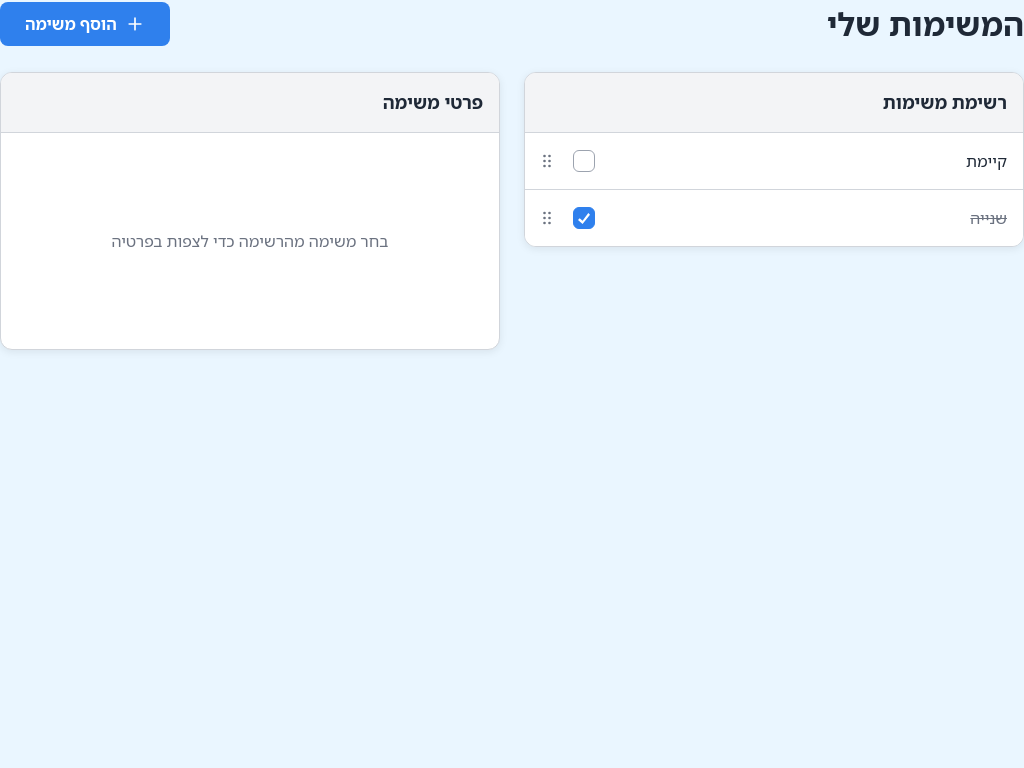
Test case: HomePage – delete task › confirm deletes the task and resets the details area
This screenshot has width=1024, height=768.
Click the button "שנייה". click: click(989, 218)
box: left=603, top=190, right=1023, bottom=246
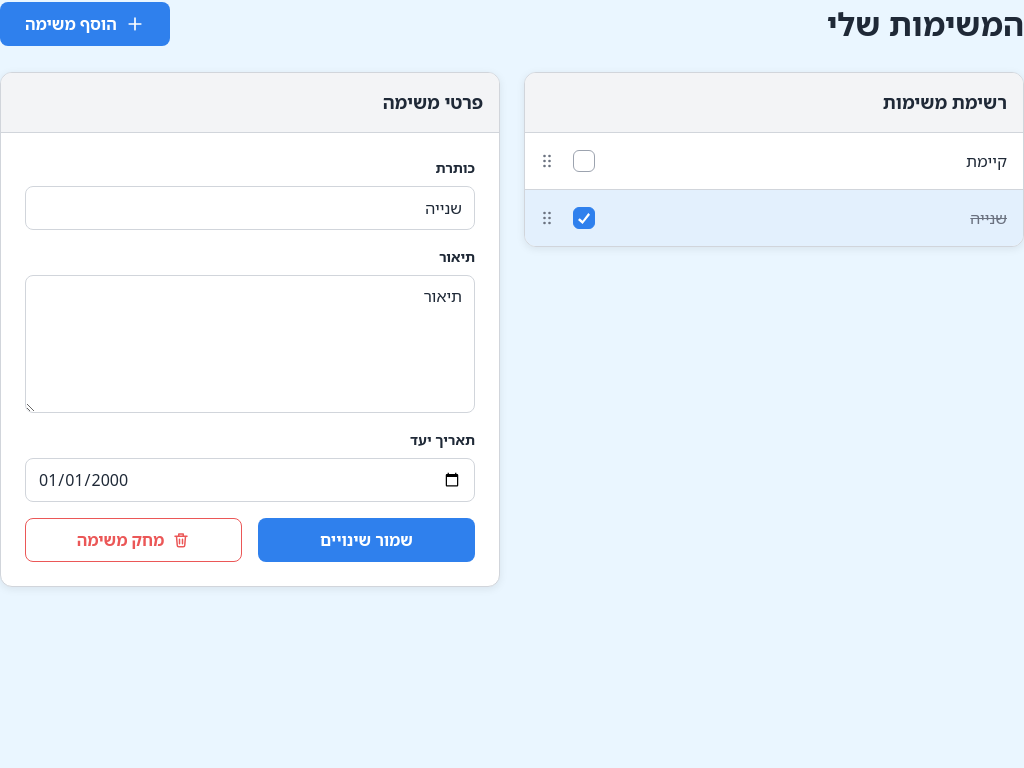
Click the button "מחק משימה". click: click(134, 540)
box: left=25, top=518, right=242, bottom=562
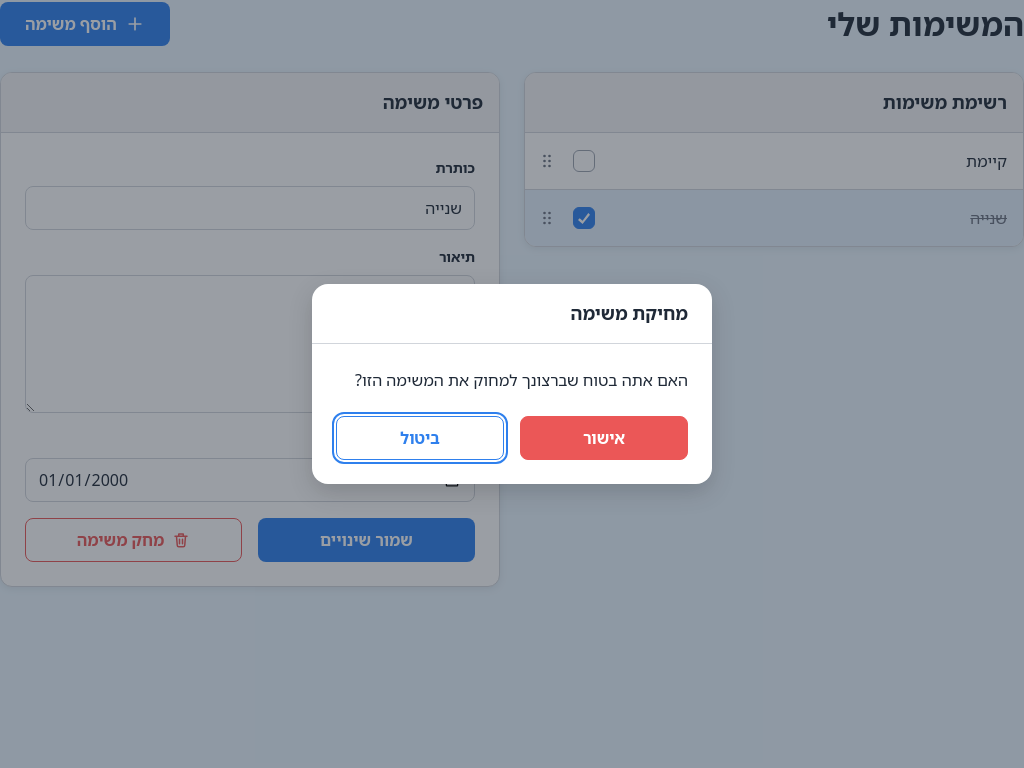
Click the button "אישור". click: click(604, 438)
box: left=520, top=416, right=688, bottom=460
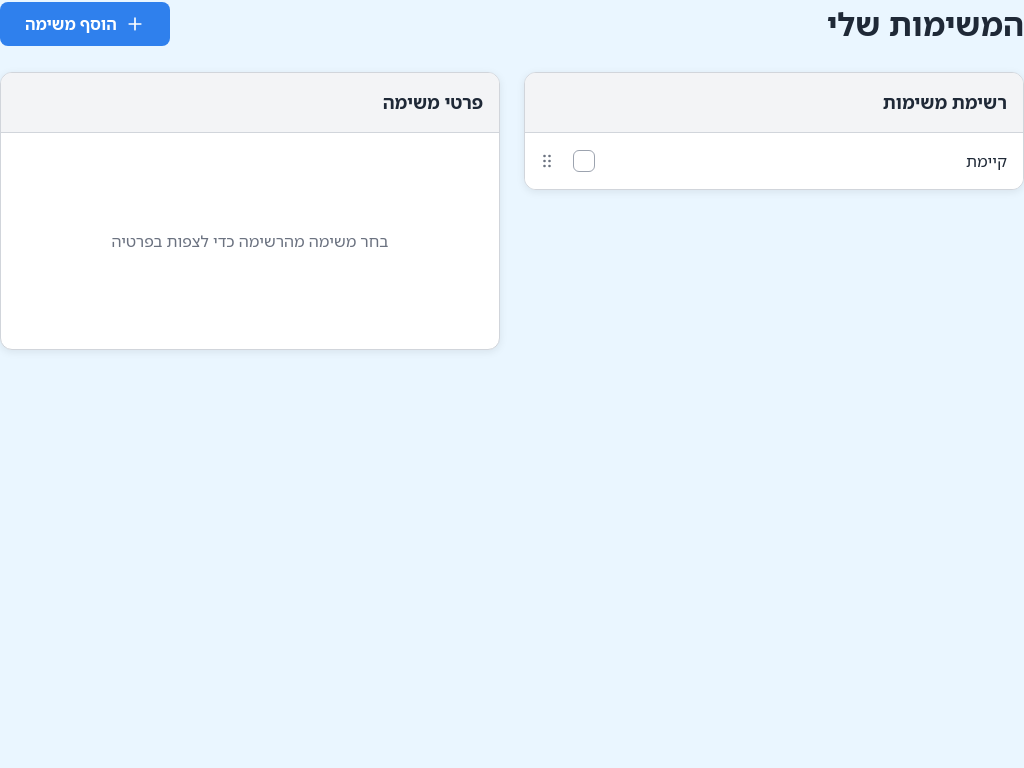
Expected: the dialog is gone
Expected: the number of list items is 1, left=525, top=133, right=1023, bottom=189
Expected: the text "בחר משימה מהרשימה כדי לצפות בפרטיה" is shown, left=112, top=230, right=388, bottom=252
